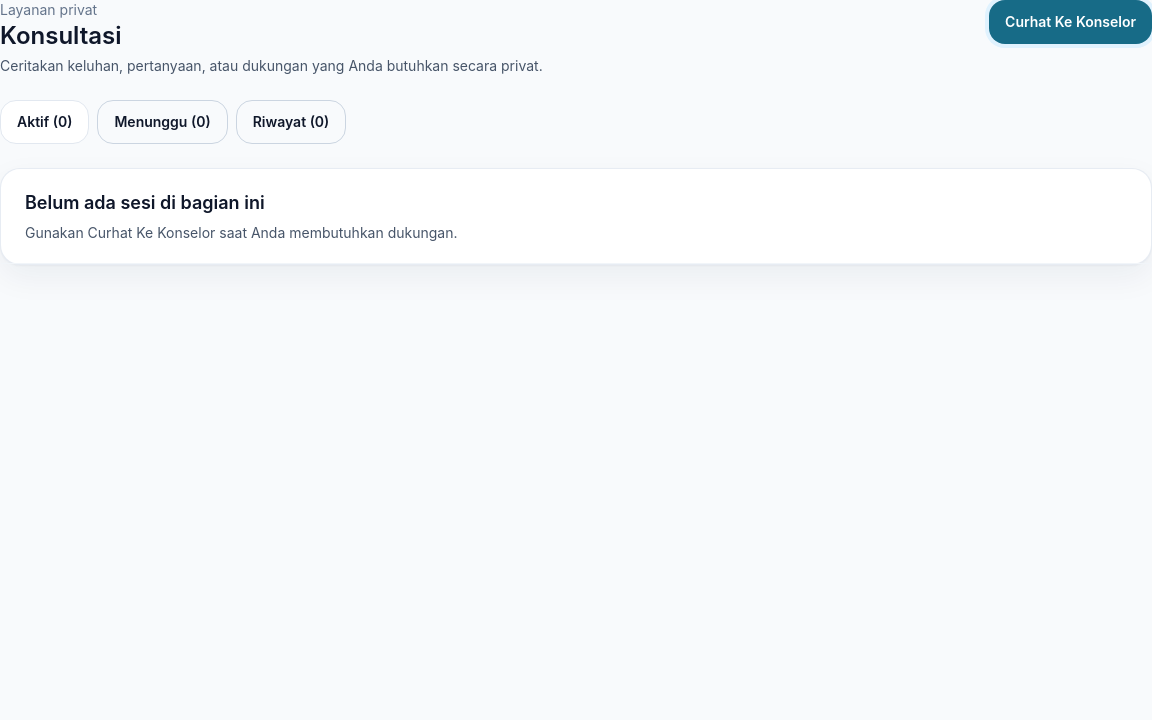
single consultation page has Curhat Ke Konselor, integrated tabs, empty state, and no GPS requirement
Expected: the heading "Konsultasi" is shown, x1=0 y1=21 x2=122 y2=50
Expected: the button "Aktif (0)" is shown, x1=0 y1=100 x2=90 y2=144
Click the button "Curhat Ke Konselor" at (1071, 22), box x1=989 y1=0 x2=1151 y2=44
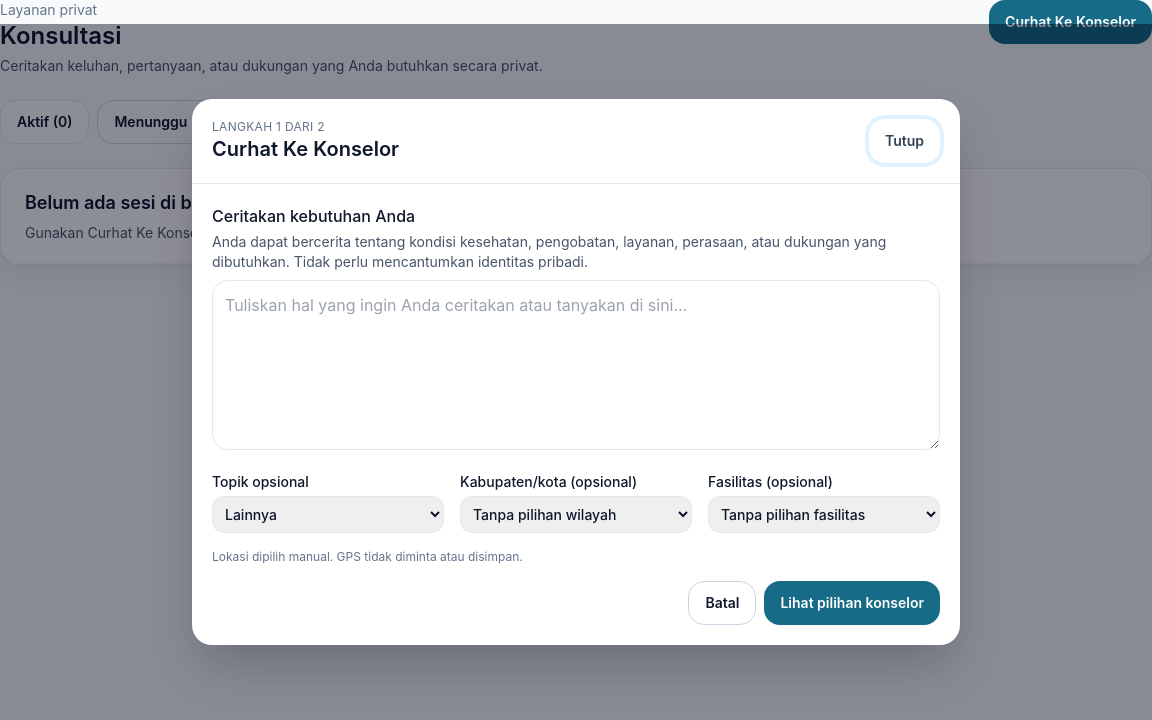
Result: the dialog "Curhat Ke Konselor" is shown at x1=192 y1=99 x2=960 y2=645
Result: the text box labelled "Ceritakan kebutuhan Anda" is shown at x1=212 y1=280 x2=940 y2=450
Result: the dropdown labelled "Topik opsional" is shown at x1=212 y1=496 x2=444 y2=533
